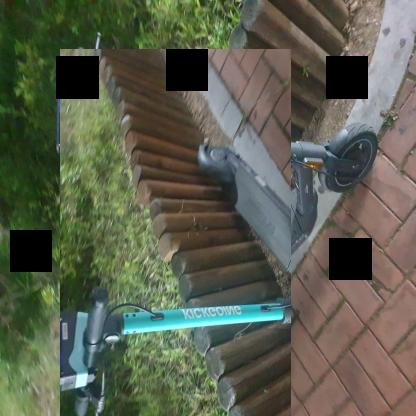kickboard: (60, 49, 291, 416)
